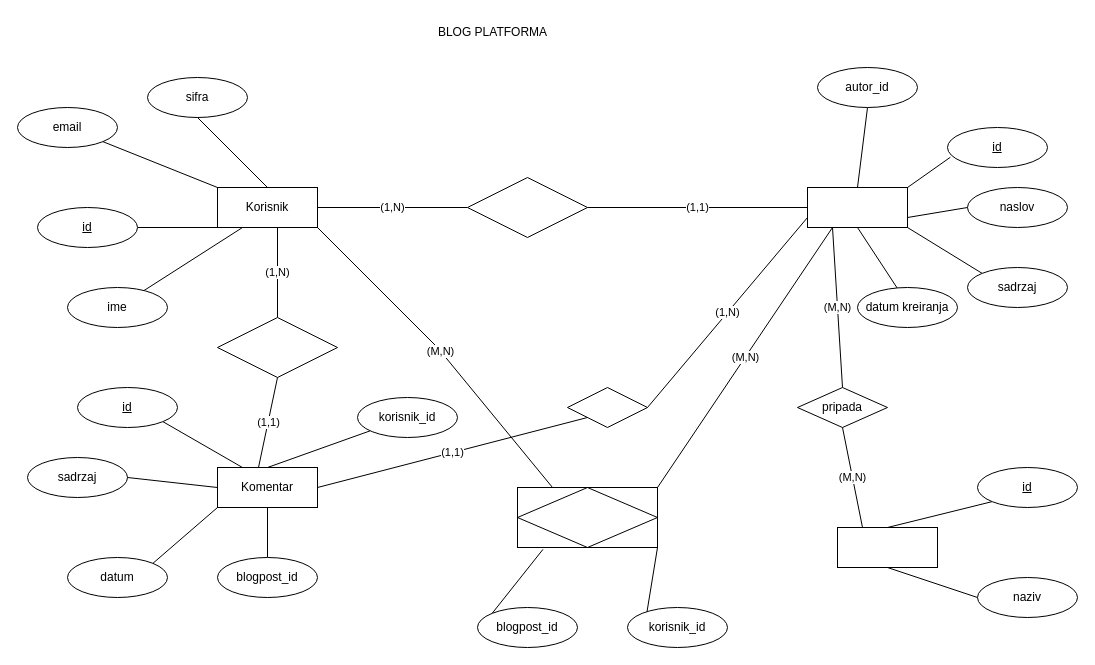
Image size: 1095x665. Some labels were removed from this diagram. The shapes that lost their labels are listed below. From the top down, each one's centre as x and y in pixels, then its label:
the point at 527,207: pise
the point at 857,207: Blogpost
the point at 277,347: ostavlja
the point at 607,407: ima
the point at 587,517: lajkovanje
the point at 887,547: Kategorija
